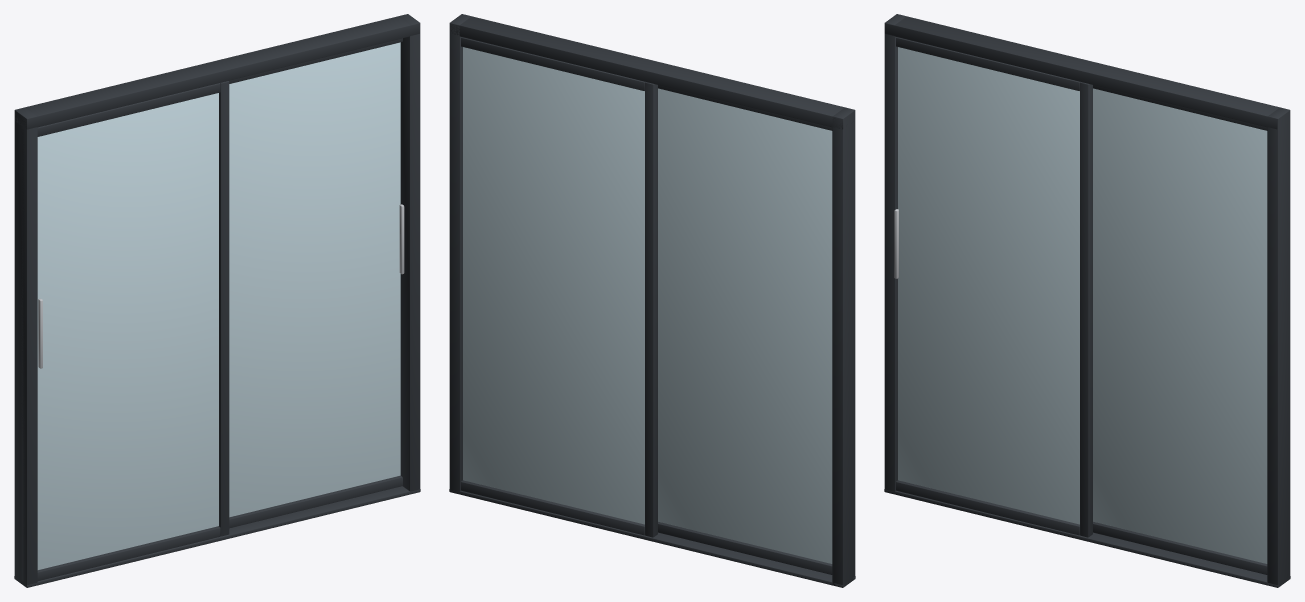
The model's file is slide_door.glb.
3 views of the same model, side by side, from view 1: azimuth 30°, elevation 25°; view 2: azimuth 150°, elevation 25°; view 3: azimuth 330°, elevation 25° (orthographic).
Parts seen in each view (by area): view 1: box.008, box.014, box, box.001, box.002, box.005, box.003, box.006, box.012, box.007, box.004, box.013; view 2: box.014, box.008, box, box.002, box.001, box.010, box.003, box.012, box.006, box.013, box.007; view 3: box.008, box.014, box.001, box.002, box, box.005, box.003, box.006, box.012, box.007, box.013.
Boxes of the visible parts, bbox=[...] form: box.008: bbox=[37, 93, 218, 569]; box.014: bbox=[229, 42, 400, 517]; box: bbox=[14, 107, 37, 586]; box.001: bbox=[398, 14, 420, 491]; box.002: bbox=[14, 16, 420, 129]; box.005: bbox=[218, 81, 229, 536]; box.003: bbox=[14, 486, 420, 587]; box.006: bbox=[37, 526, 220, 580]; box.012: bbox=[229, 475, 402, 528]; box.007: bbox=[37, 83, 220, 136]; box.004: bbox=[21, 129, 25, 581]; box.013: bbox=[229, 38, 402, 83]; box.014: bbox=[463, 47, 644, 524]; box.008: bbox=[658, 88, 832, 563]; box: bbox=[832, 107, 855, 586]; box.002: bbox=[450, 16, 854, 129]; box.001: bbox=[449, 14, 471, 493]; box.010: bbox=[645, 82, 657, 537]; box.003: bbox=[449, 489, 855, 587]; box.012: bbox=[461, 480, 644, 535]; box.006: bbox=[658, 521, 832, 574]; box.013: bbox=[461, 37, 645, 90]; box.007: bbox=[658, 85, 832, 130]; box.008: bbox=[898, 47, 1079, 524]; box.014: bbox=[1093, 88, 1267, 563]; box.001: bbox=[1267, 107, 1290, 586]; box.002: bbox=[884, 16, 1279, 129]; box: bbox=[884, 14, 906, 491]; box.005: bbox=[1080, 82, 1092, 537]; box.003: bbox=[884, 489, 1290, 587]; box.006: bbox=[896, 480, 1079, 535]; box.012: bbox=[1093, 521, 1267, 574]; box.007: bbox=[896, 37, 1080, 90]; box.013: bbox=[1093, 85, 1267, 130].
Bounding box in the file's own units: 180 × 205 × 11.5.
